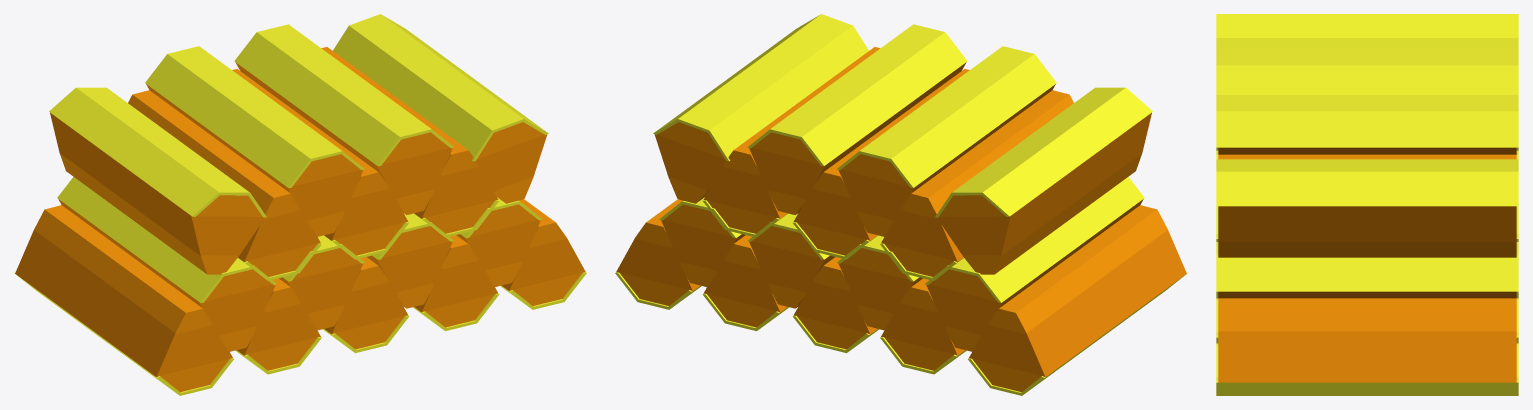
The model's file is Small Log_24.fbx.
3 views of the same model, side by side, from view 1: azimuth 30°, elevation 25°; view 2: azimuth 150°, elevation 25°; view 3: azimuth 270°, elevation 25° (orthographic). The views are drawn at different scales.
Visible parts, largest first — view 1: Circle.386; view 2: Circle.386; view 3: Circle.386.
Boxes of the visible parts, bbox=[...] form: Circle.386: bbox=[14, 14, 586, 395]; Circle.386: bbox=[615, 14, 1187, 395]; Circle.386: bbox=[1216, 14, 1518, 395].
Bounding box in the file's own units: 41.08 × 18.75 × 23.76.
